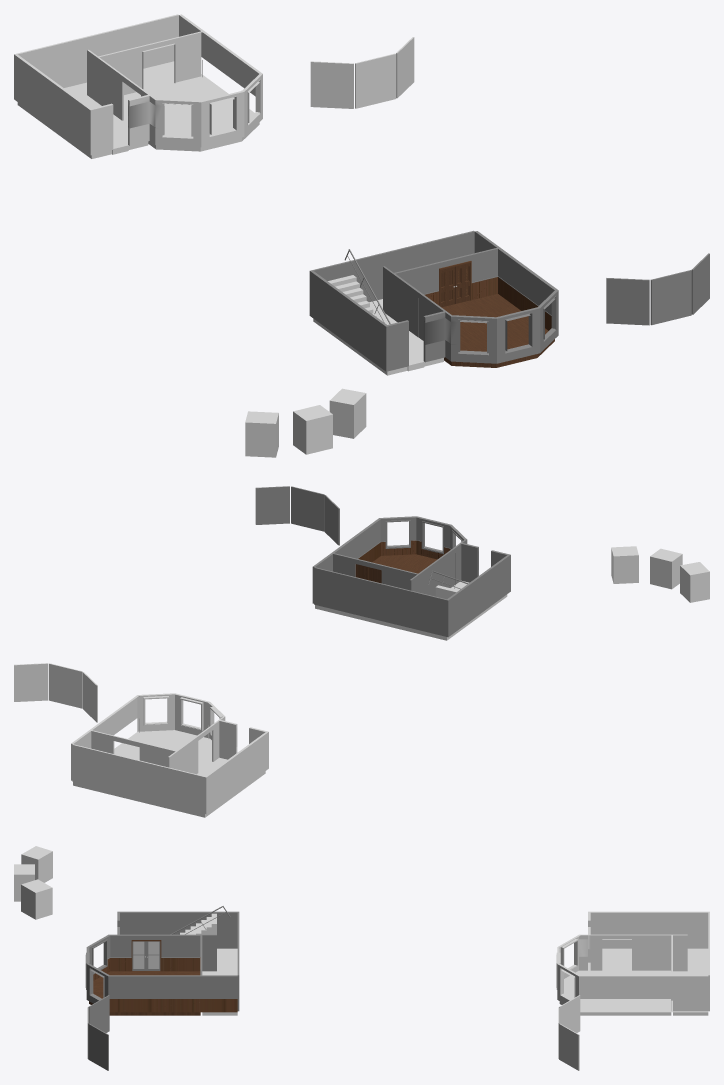
File: floor model 2.FBX
The picture shows the model from 3 angles, top to bottom: view 1: azimuth 30°, elevation 25°; view 2: azimuth 150°, elevation 25°; view 3: azimuth 270°, elevation 25°; orthographic projection. The views are drawn at different scales.
Parts seen in each view (by area): view 1: Layer:Exterior Wall001, Layer:Exterior Wall, Layer:Interior Wall001, Layer:Interior Wall, Layer:windows, Layer:floor001, Layer:floor, Object006, Layer:Block origin001, Layer:Block origin, Object005, Object003 (+1 smaller); view 2: Layer:Exterior Wall001, Layer:Exterior Wall, Layer:Interior Wall001, Layer:Interior Wall, Layer:windows, Layer:floor001, Object006, Layer:Block origin001, Layer:Block origin, Object005, Layer:floor, Object003 (+1 smaller); view 3: Layer:Interior Wall001, Layer:Exterior Wall001, Layer:Interior Wall, Layer:Exterior Wall, Object005, Layer:windows, Layer:floor001, Object006, Layer:Block origin001, Layer:floor, Layer:Block origin, Object010 (+4 smaller).
Part boxes in pixels (x1,y1,x2,y2): Layer:Exterior Wall001: (14,14,414,155); Layer:Exterior Wall: (309,230,709,371); Layer:Interior Wall001: (87,14,262,147); Layer:Interior Wall: (383,231,558,363); Layer:windows: (245,388,366,457); Layer:floor001: (123,77,259,151); Layer:floor: (441,294,554,367); Object006: (396,249,553,314); Layer:Block origin001: (17,61,174,158); Layer:Block origin: (313,299,443,375); Object005: (425,277,551,330); Object003: (162,79,260,138); Layer:Exterior Wall001: (14,663,268,814); Layer:Exterior Wall: (255,486,510,637); Layer:Interior Wall001: (71,693,237,780); Layer:Interior Wall: (312,516,478,603); Layer:windows: (611,546,709,602); Layer:floor001: (114,731,212,771); Object006: (335,518,463,558); Layer:Block origin001: (73,757,265,817); Layer:Block origin: (315,580,507,640); Object005: (358,540,450,562); Layer:floor: (372,554,437,573); Object003: (143,697,222,736); Layer:Interior Wall001: (557,927,708,1012); Layer:Exterior Wall001: (558,911,709,1070); Layer:Interior Wall: (86,927,237,1003); Layer:Exterior Wall: (87,911,239,1070); Object005: (93,958,237,1012); Layer:windows: (14,846,52,919); Layer:floor001: (559,971,671,1015); Object006: (89,936,200,964); Layer:Block origin001: (602,948,708,1015); Layer:floor: (89,971,200,1015); Layer:Block origin: (202,948,237,1015); Object010: (133,941,159,968).
Size of the model in its own units: 1138 by 155 by 1690.
